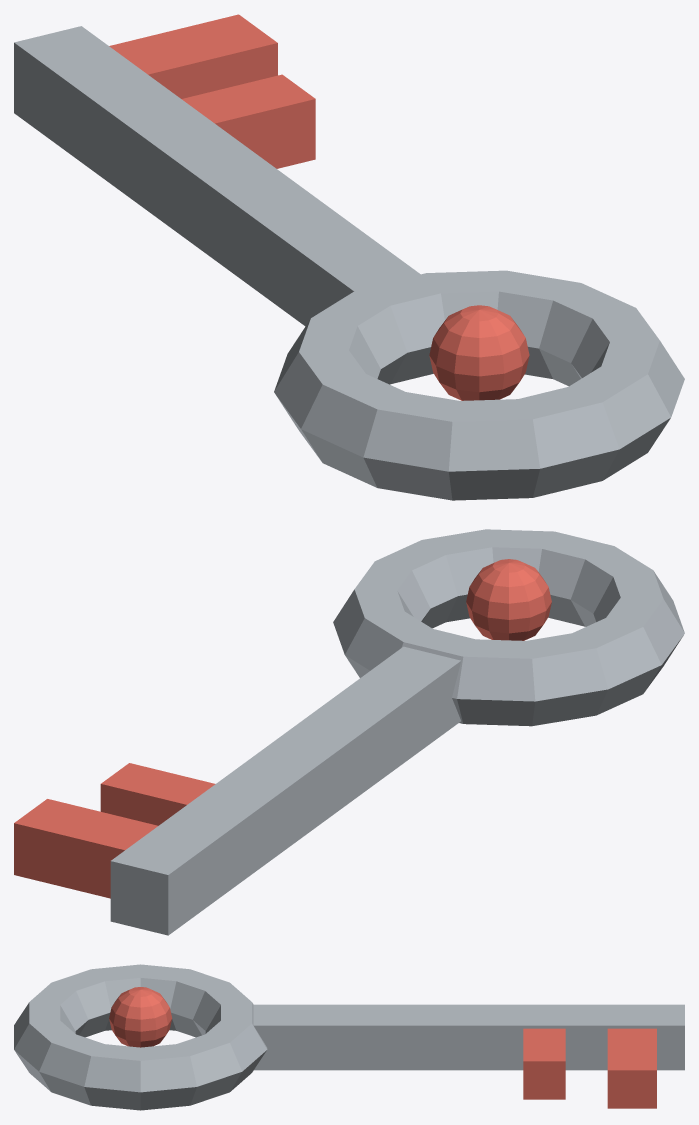
Rendered from arena_held.gltf.
3 renders of one model, top to bottom at view 1: azimuth 30°, elevation 25°; view 2: azimuth 150°, elevation 25°; view 3: azimuth 270°, elevation 25°, orthographic. The views are drawn at different scales.
Parts seen in each view (by area): view 1: keys_arena_held; view 2: keys_arena_held; view 3: keys_arena_held.
Part boxes in pixels (box(x1,y1,x2,y2)): keys_arena_held: box(14, 14, 684, 500); keys_arena_held: box(14, 529, 684, 935); keys_arena_held: box(14, 964, 684, 1110).
Size of the model in its own units: 0.074 by 0.0228 by 0.1911.
